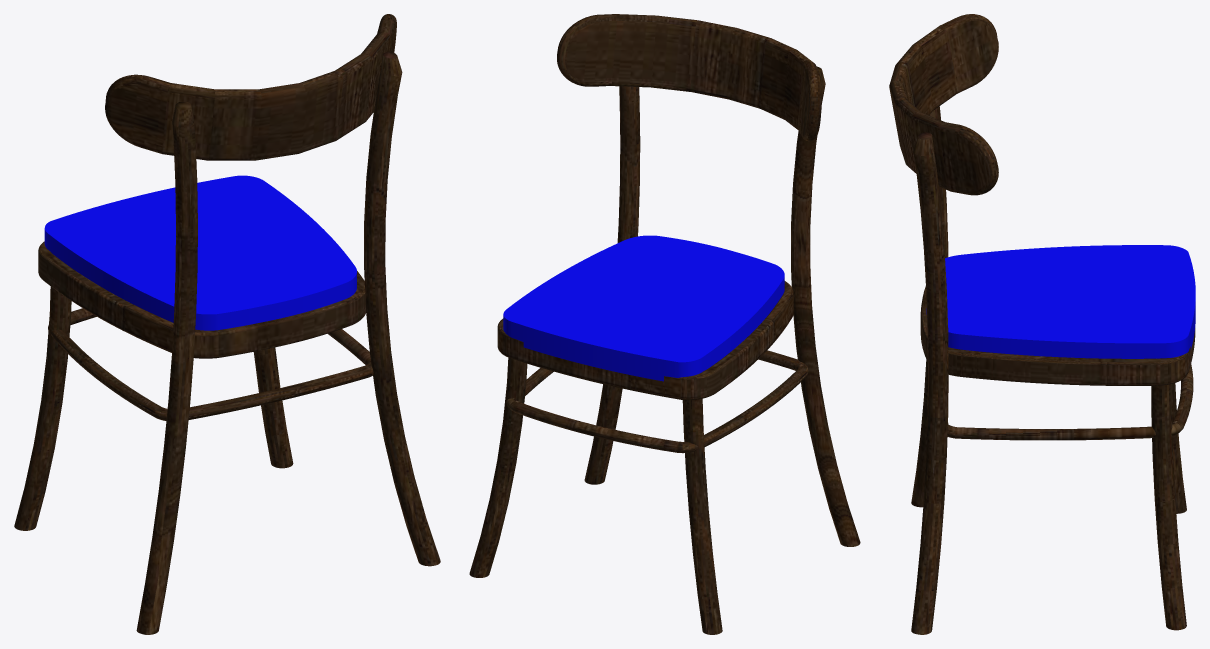
3 views of the same model, side by side, from view 1: azimuth 30°, elevation 25°; view 2: azimuth 150°, elevation 25°; view 3: azimuth 270°, elevation 25° (orthographic). The views are drawn at different scales.
Parts seen in each view (by area): view 1: mesh6_mesh6-geometry, mesh1_mesh1-geometry, mesh8_mesh8-geometry, mesh9_mesh9-geometry, mesh2_mesh2-geometry, mesh3_mesh3-geometry, mesh7_mesh7-geometry, mesh10_mesh10-geometry; view 2: mesh6_mesh6-geometry, mesh1_mesh1-geometry, mesh8_mesh8-geometry, mesh2_mesh2-geometry, mesh9_mesh9-geometry, mesh7_mesh7-geometry, mesh3_mesh3-geometry, mesh10_mesh10-geometry; view 3: mesh6_mesh6-geometry, mesh1_mesh1-geometry, mesh9_mesh9-geometry, mesh2_mesh2-geometry, mesh10_mesh10-geometry, mesh3_mesh3-geometry, mesh8_mesh8-geometry, mesh7_mesh7-geometry.
Boxes of the visible parts, <box> form: mesh6_mesh6-geometry: <box>44,175,356,330</box>; mesh1_mesh1-geometry: <box>105,14,396,160</box>; mesh8_mesh8-geometry: <box>136,102,197,634</box>; mesh9_mesh9-geometry: <box>364,51,440,566</box>; mesh2_mesh2-geometry: <box>38,241,366,358</box>; mesh3_mesh3-geometry: <box>48,308,373,420</box>; mesh7_mesh7-geometry: <box>14,286,71,530</box>; mesh10_mesh10-geometry: <box>253,347,293,468</box>; mesh6_mesh6-geometry: <box>503,235,784,381</box>; mesh1_mesh1-geometry: <box>557,14,821,141</box>; mesh8_mesh8-geometry: <box>791,66,860,546</box>; mesh2_mesh2-geometry: <box>497,281,793,399</box>; mesh9_mesh9-geometry: <box>584,86,640,484</box>; mesh7_mesh7-geometry: <box>682,398,722,634</box>; mesh3_mesh3-geometry: <box>506,350,808,453</box>; mesh10_mesh10-geometry: <box>469,357,527,577</box>; mesh6_mesh6-geometry: <box>926,245,1195,358</box>; mesh1_mesh1-geometry: <box>889,14,998,195</box>; mesh9_mesh9-geometry: <box>911,132,948,634</box>; mesh2_mesh2-geometry: <box>920,286,1195,385</box>; mesh10_mesh10-geometry: <box>1151,384,1186,630</box>; mesh3_mesh3-geometry: <box>947,363,1193,440</box>; mesh8_mesh8-geometry: <box>911,106,948,507</box>; mesh7_mesh7-geometry: <box>1172,383,1186,513</box>.
Bounding box in the file's own units: 0.4582 × 0.7751 × 0.435.
Materials: 4 (1 with a texture image).
